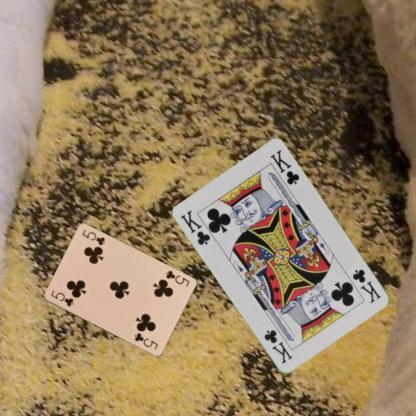5c: (48, 287, 74, 308), (163, 268, 190, 288)
Kc: (178, 207, 212, 247), (350, 266, 383, 304)
